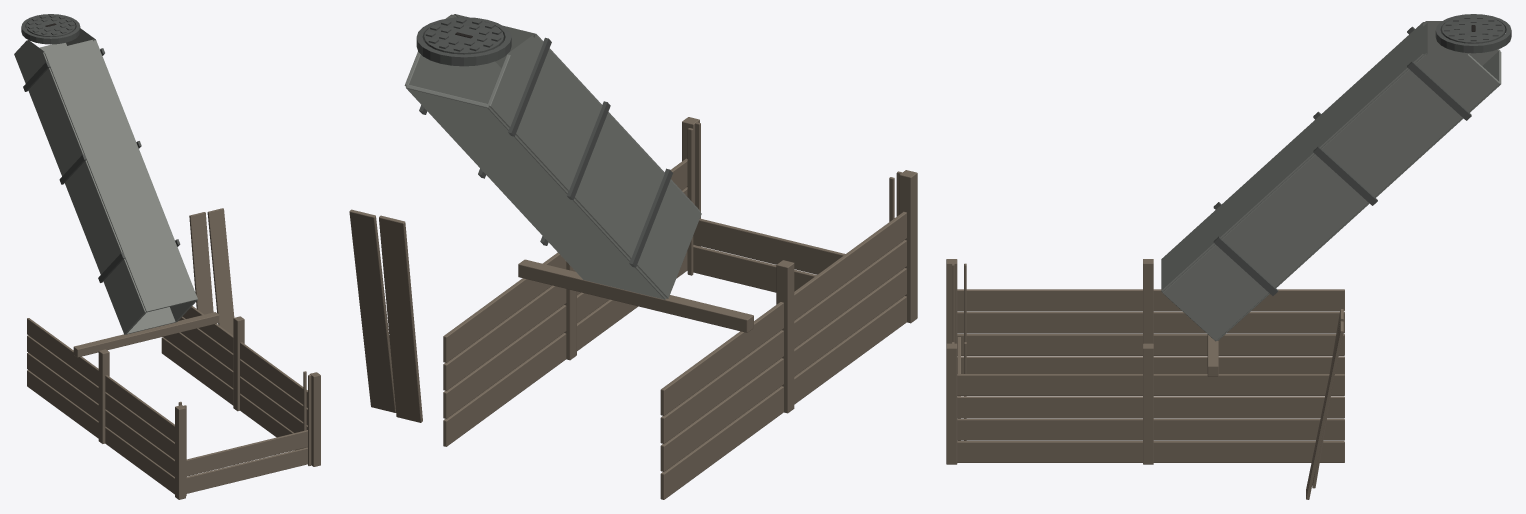
Rendered from v2_coal_delivery.glb.
3 views of the same model, side by side, from view 1: azimuth 30°, elevation 25°; view 2: azimuth 150°, elevation 25°; view 3: azimuth 270°, elevation 25° (orthographic). The views are drawn at different scales.
Parts seen in each view (by area): view 1: CoalDelivery_wood_dark, CoalDelivery_metal, CoalDelivery_cast_iron; view 2: CoalDelivery_wood_dark, CoalDelivery_metal, CoalDelivery_cast_iron; view 3: CoalDelivery_wood_dark, CoalDelivery_metal, CoalDelivery_cast_iron.
Part boxes in pixels (<box>): CoalDelivery_wood_dark: <box>27,208,320,499</box>; CoalDelivery_metal: <box>14,28,197,334</box>; CoalDelivery_cast_iron: <box>21,14,180,282</box>; CoalDelivery_wood_dark: <box>349,117,917,499</box>; CoalDelivery_metal: <box>404,14,701,299</box>; CoalDelivery_cast_iron: <box>416,17,672,267</box>; CoalDelivery_wood_dark: <box>946,259,1344,499</box>; CoalDelivery_metal: <box>1161,21,1501,341</box>; CoalDelivery_cast_iron: <box>1213,14,1511,295</box>.
Size of the model in its own units: 2.17 by 3.23 by 4.17.
